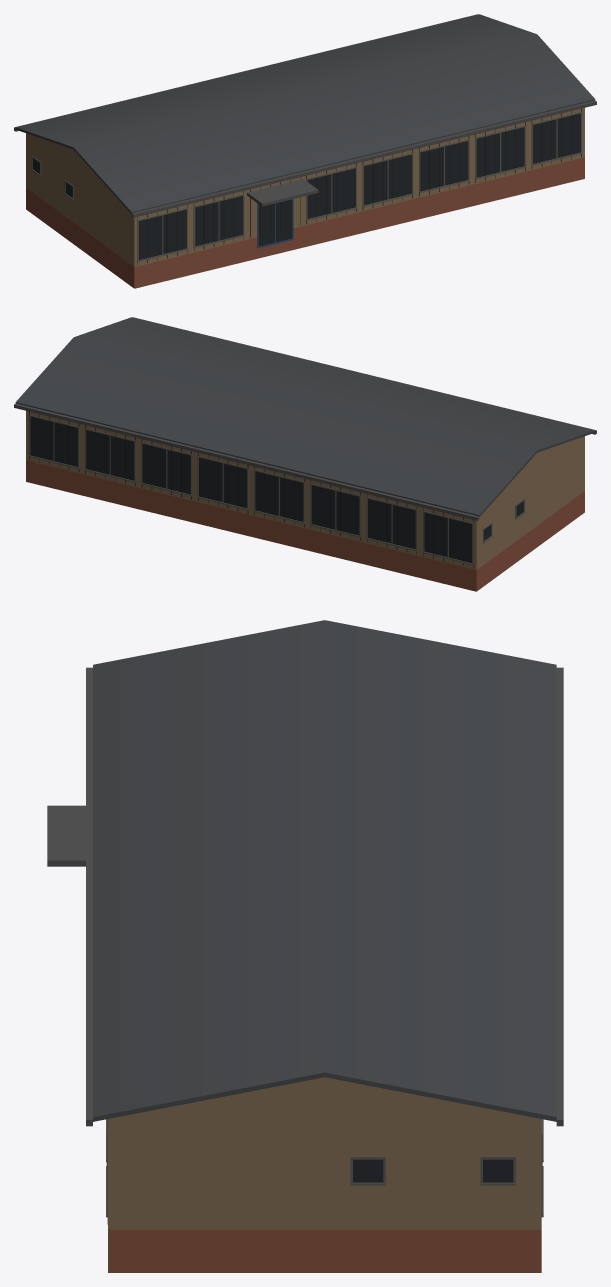
The model's file is context.school.timber_school.glb.
3 renders of one model, top to bottom at view 1: azimuth 30°, elevation 25°; view 2: azimuth 150°, elevation 25°; view 3: azimuth 270°, elevation 25°, orthographic. The views are drawn at different scales.
Visible parts, largest first — view 1: main__clad_444, main__paint_223, main__timber_875, main__brick_854, main__steel_555, main__paint_555, main__paint_221; view 2: main__clad_444, main__paint_223, main__timber_875, main__brick_854, main__paint_555, main__steel_555, main__paint_221; view 3: main__clad_444, main__timber_875, main__brick_854, main__steel_555, main__paint_223, main__paint_555.
Boxes of the visible parts, bbox=[...] form: main__clad_444: bbox=[15, 14, 595, 213]; main__paint_223: bbox=[33, 113, 580, 259]; main__timber_875: bbox=[26, 108, 584, 266]; main__brick_854: bbox=[26, 157, 584, 288]; main__steel_555: bbox=[14, 14, 596, 217]; main__paint_555: bbox=[31, 112, 582, 261]; main__paint_221: bbox=[137, 108, 581, 264]; main__clad_444: bbox=[15, 317, 595, 516]; main__paint_223: bbox=[30, 416, 523, 562]; main__timber_875: bbox=[26, 411, 584, 569]; main__brick_854: bbox=[26, 460, 584, 591]; main__paint_555: bbox=[28, 415, 525, 564]; main__steel_555: bbox=[14, 317, 596, 520]; main__paint_221: bbox=[29, 411, 473, 567]; main__clad_444: bbox=[93, 620, 556, 1121]; main__timber_875: bbox=[108, 1077, 541, 1229]; main__brick_854: bbox=[108, 1229, 541, 1272]; main__steel_555: bbox=[47, 667, 563, 1126]; main__paint_223: bbox=[353, 1159, 513, 1182]; main__paint_555: bbox=[106, 1119, 543, 1217].
Bounding box in the file's own units: 24.7 × 5.26 × 11.91.
